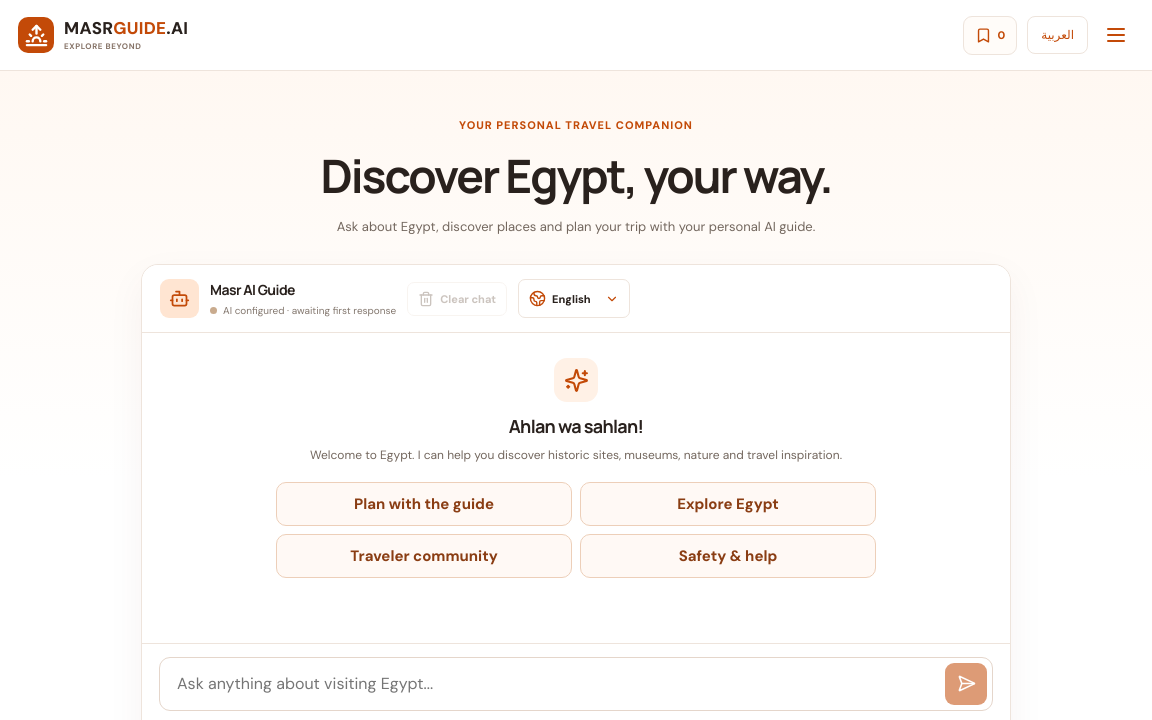
Test: GitHub release fixes › identifies a local greeting as local despite Gemini configuration
Type "Hello" into the field named "Ask the tour guide".
click(560, 684); type("Hello")  # box [175, 663, 945, 705]
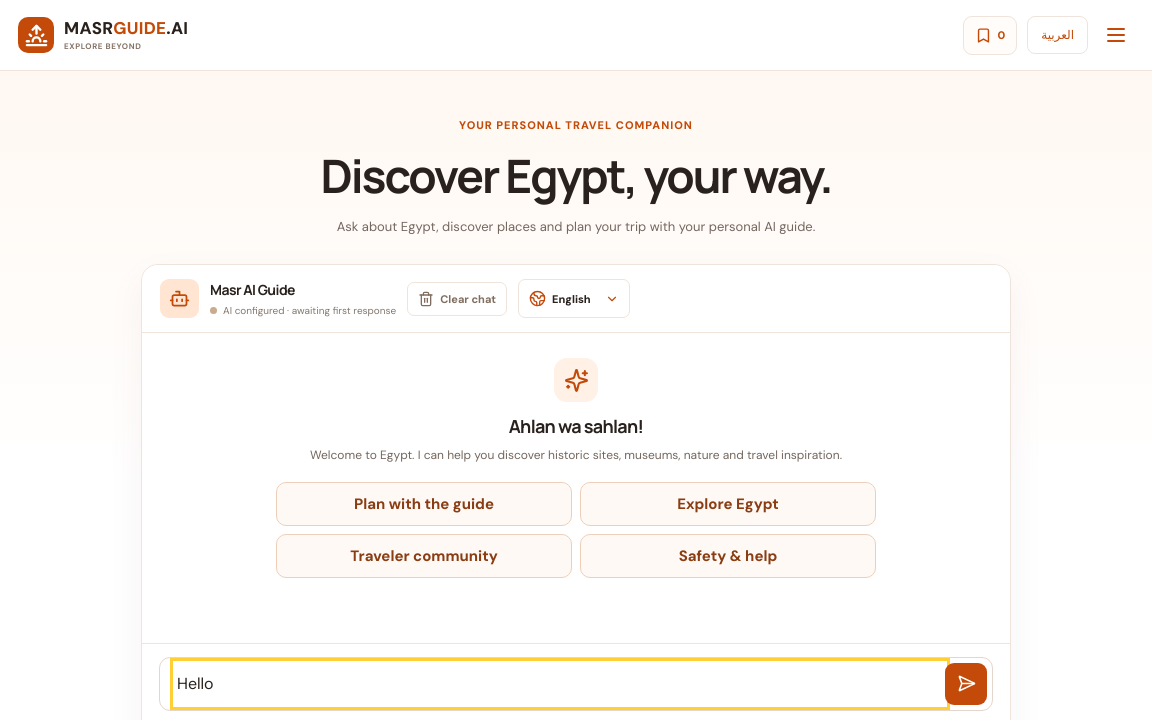
Click the button named "Send message".
click(966, 684)  # box [945, 663, 987, 705]
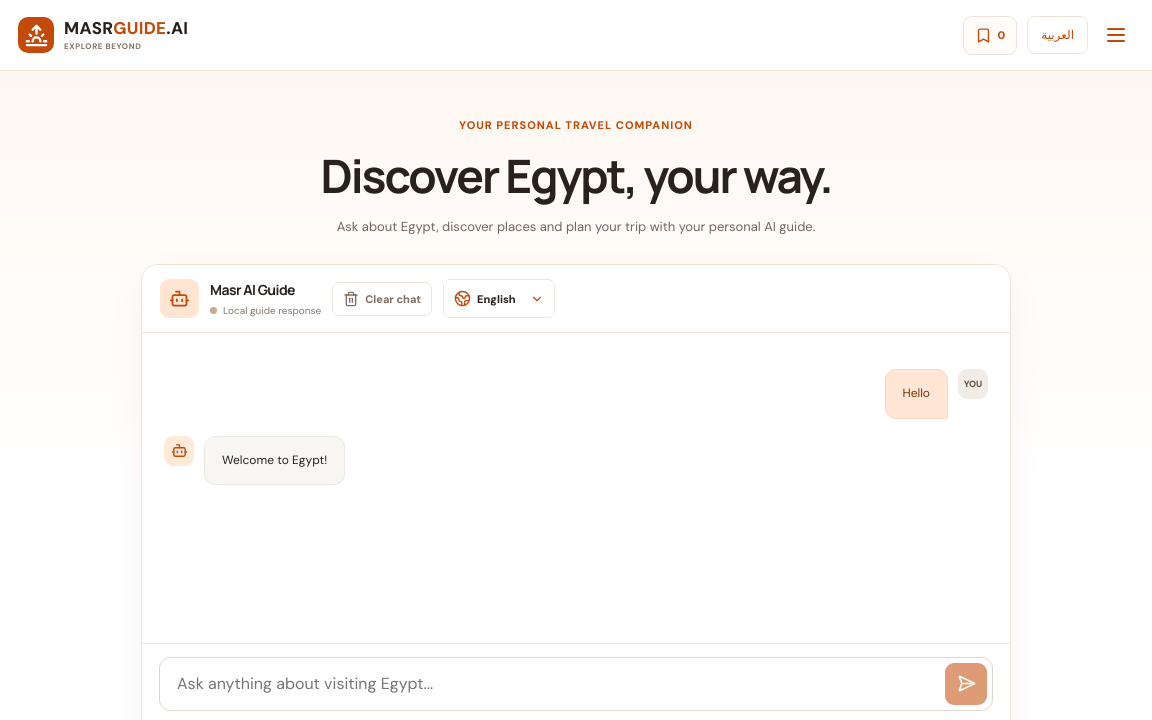
Result: the text "Welcome to Egypt!" is shown at [204, 436, 345, 485]
Result: the text "Local guide response" is shown at [210, 304, 321, 317]
